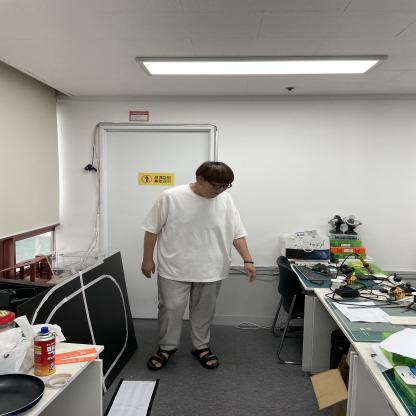normal: (141, 158, 258, 370)
